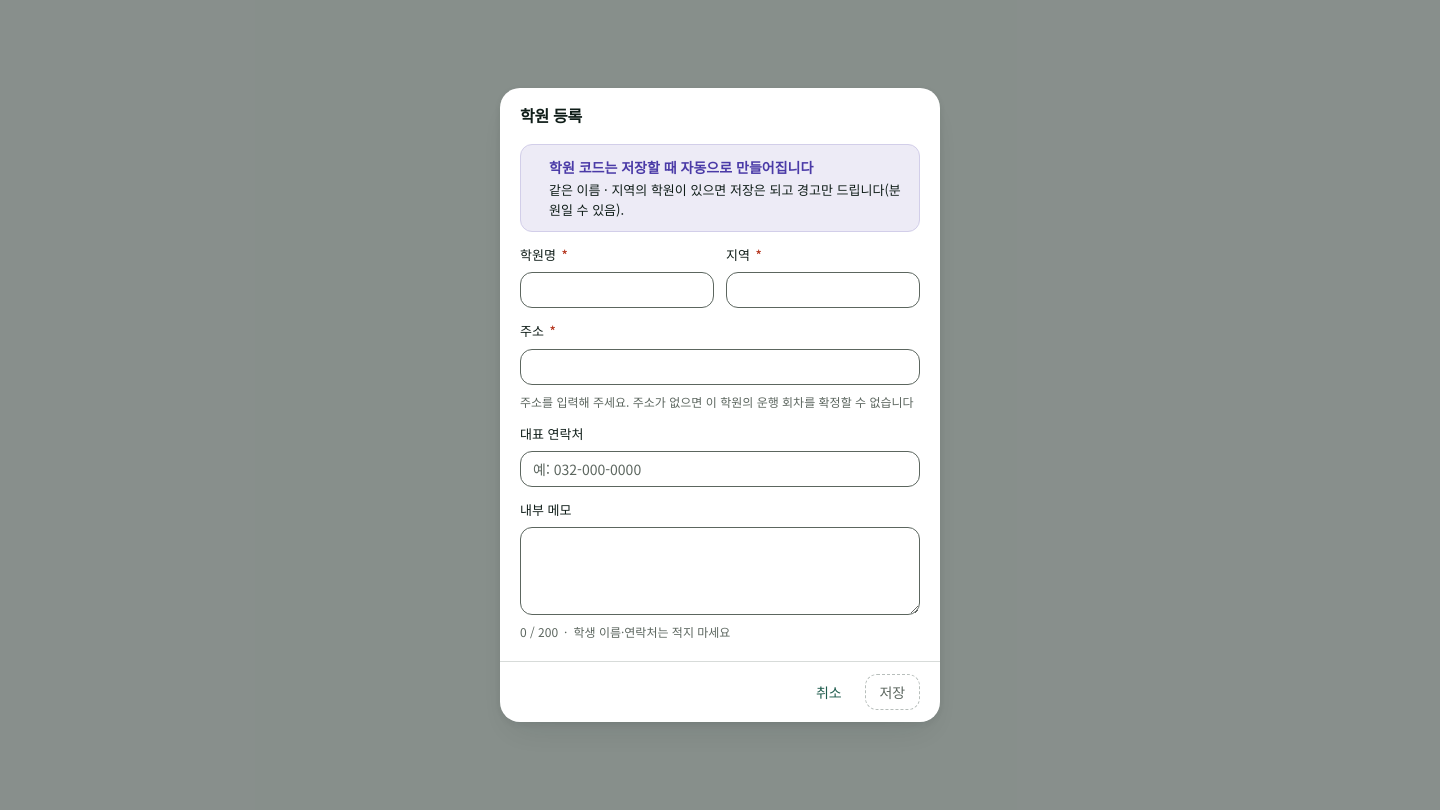
Test: AcademyFormDialog — 주소 검증·메모 길이 › 503 ADDRESS_VERIFICATION_UNAVAILABLE 는 서버 원문이 아니라 쉬운 한국어 문구로 알리고 닫지 않는다
In the field labelled "학원명 *": (617, 290) [520,272,714,308], type "새 학원"
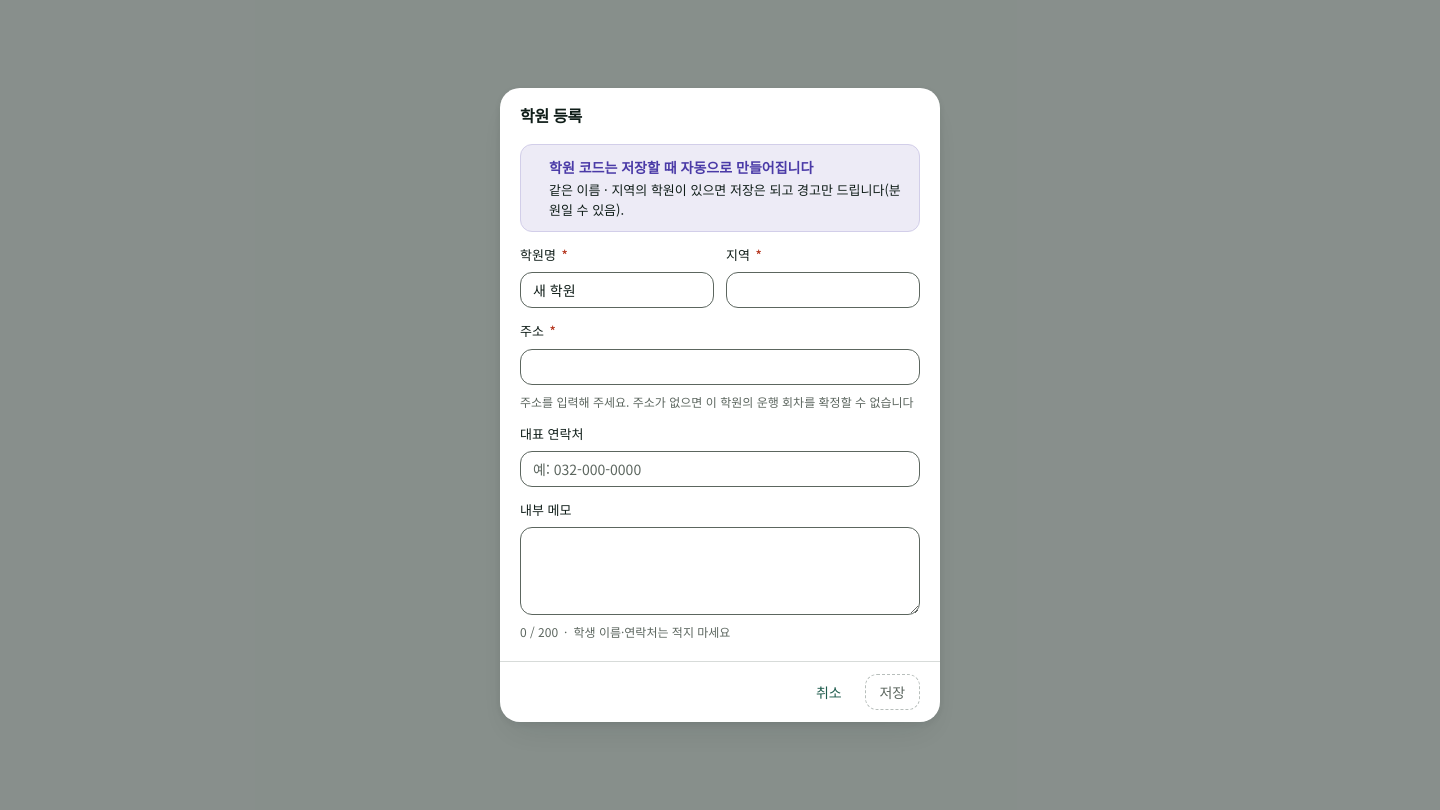
In the field labelled "지역 *": (823, 290) [726,272,920,308], type "서울"
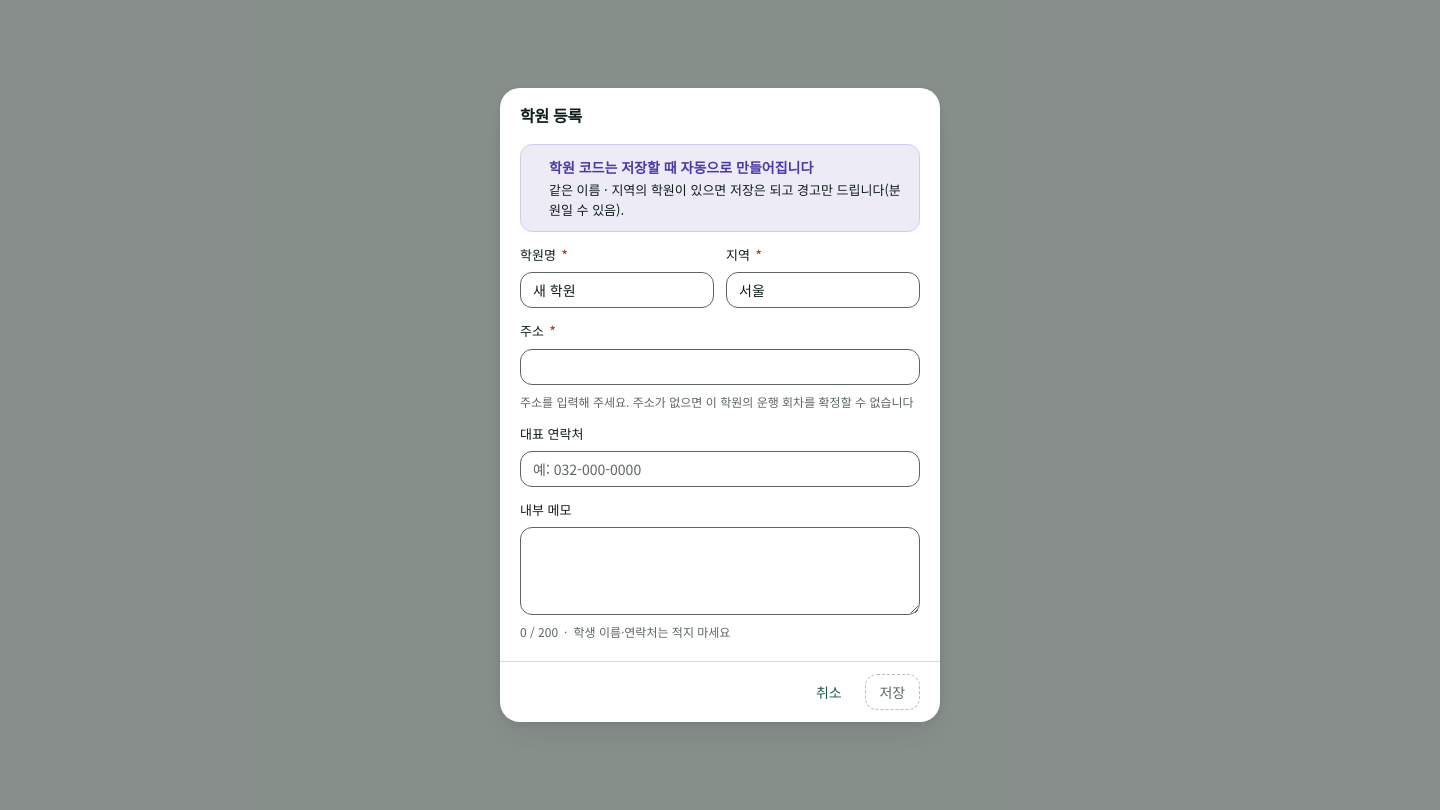
In the field labelled "주소 * 주소를 입력해 주세요. 주소가 없으면 이 학원의 운행 회차를 확정할 수 없습니다": (720, 366) [520,348,920,384], type "서울 강동구 천호대로 1"
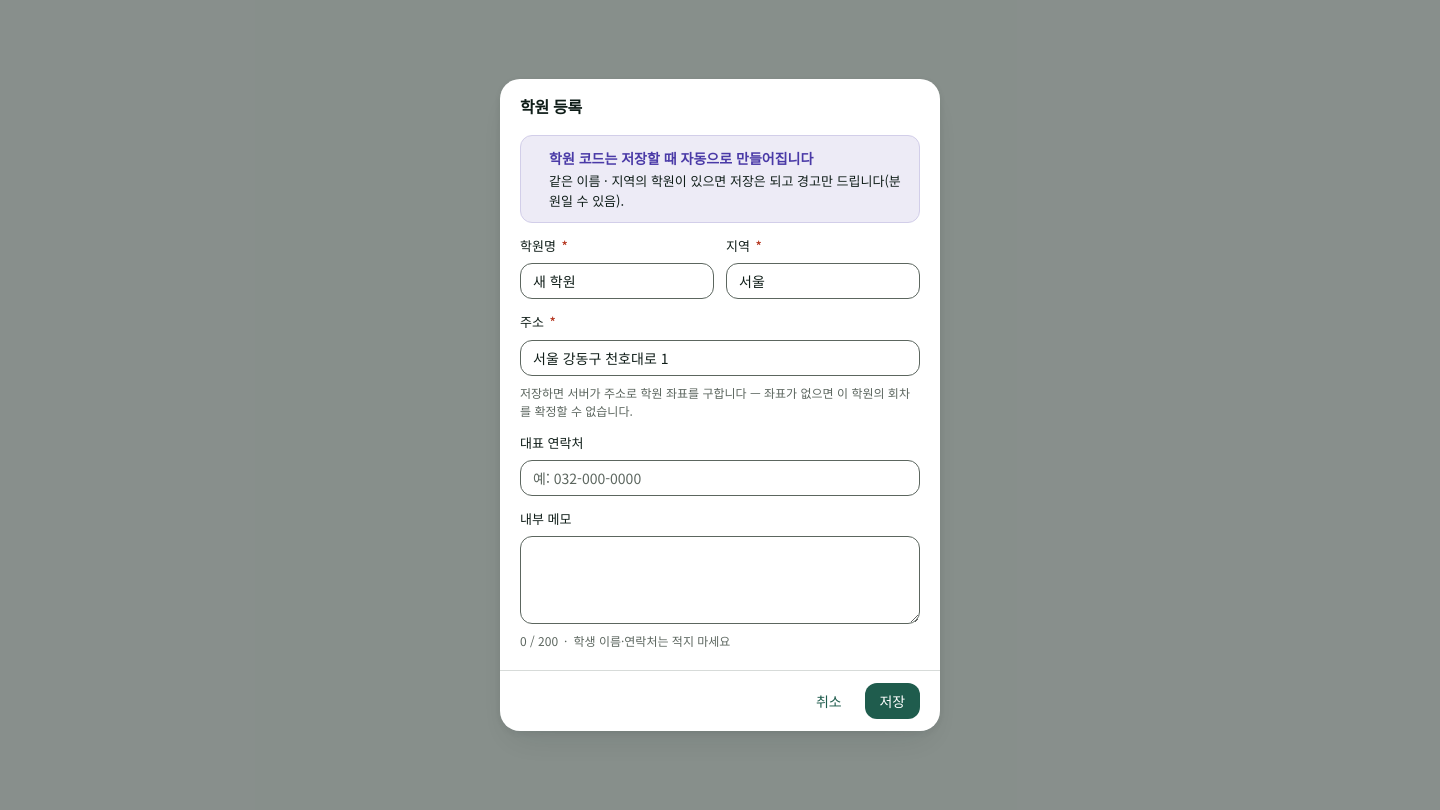
Click the button "저장": (892, 701) [864,683,920,719]
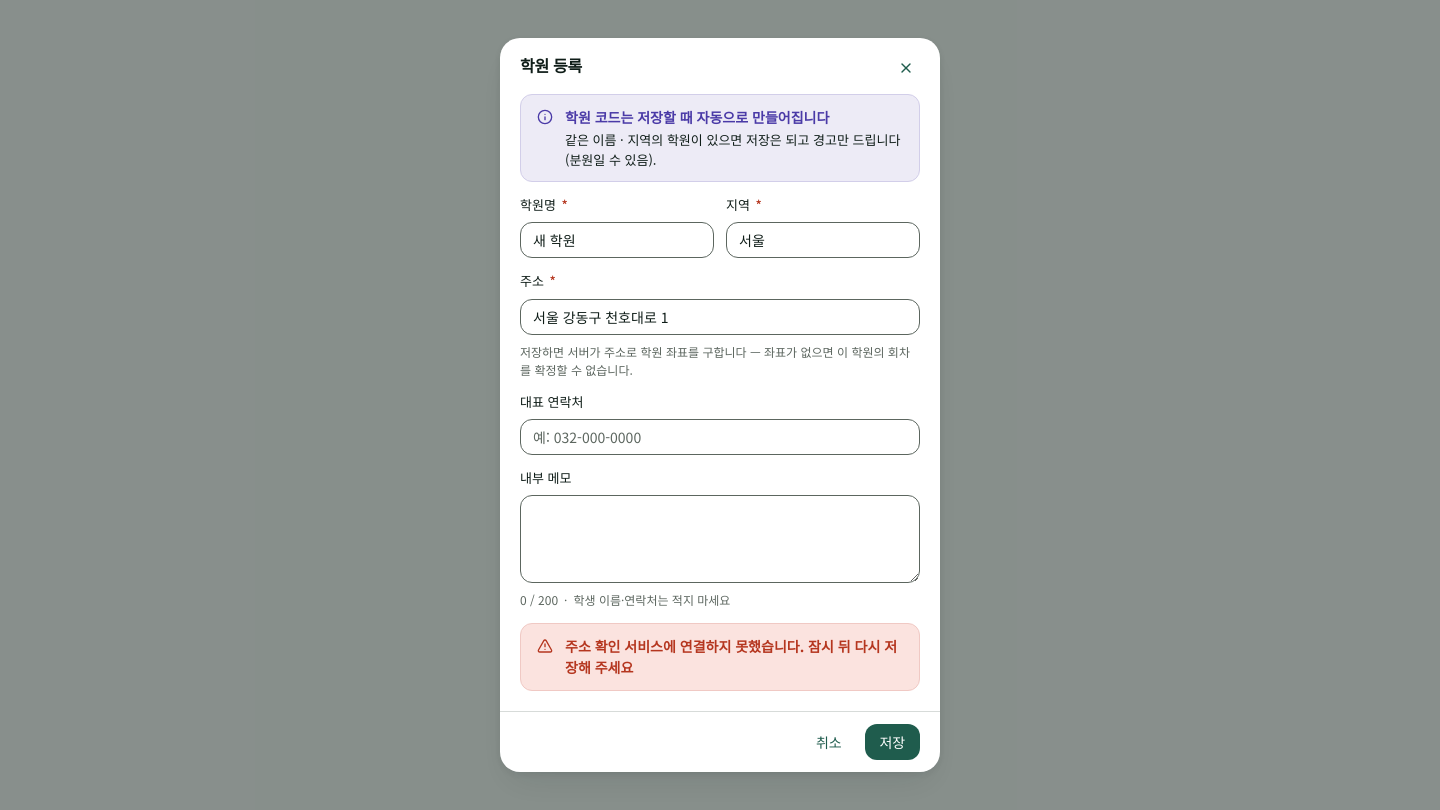
Result: the text "주소 확인 서비스에 연결하지 못했습니다. 잠시 뒤 다시 저장해 주세요" is shown at [565,636,903,678]
